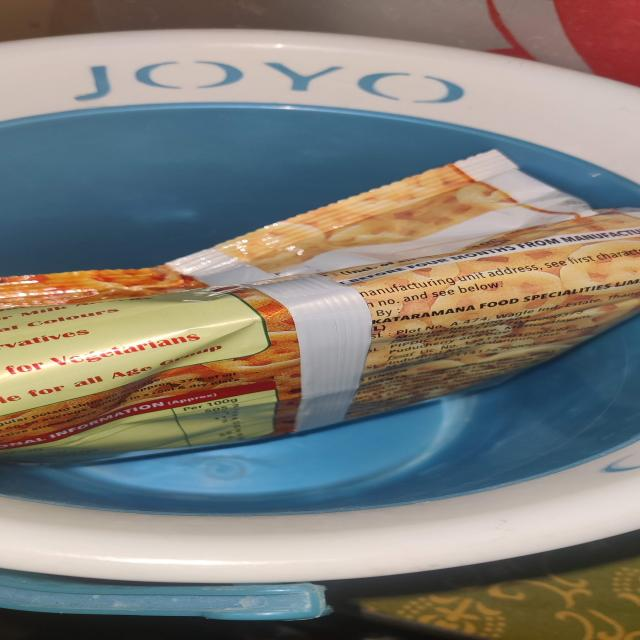dry: (21, 456, 626, 638), (3, 238, 640, 383)
